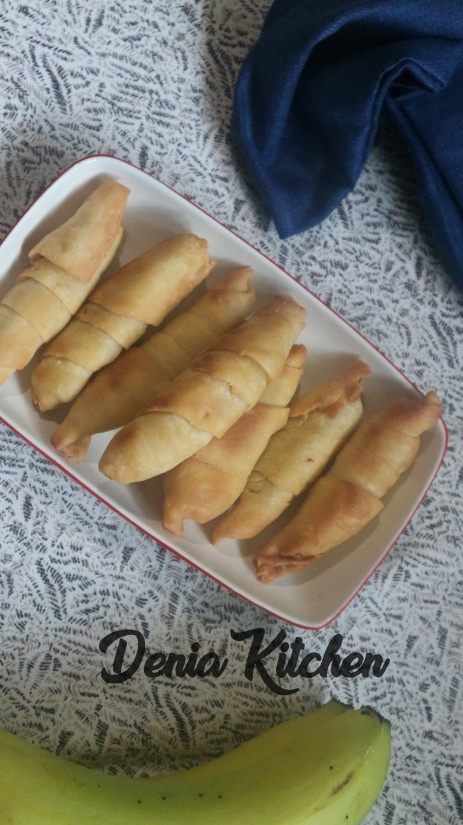pisang_molen: (100, 303, 317, 482), (257, 390, 443, 582), (0, 177, 130, 381)
